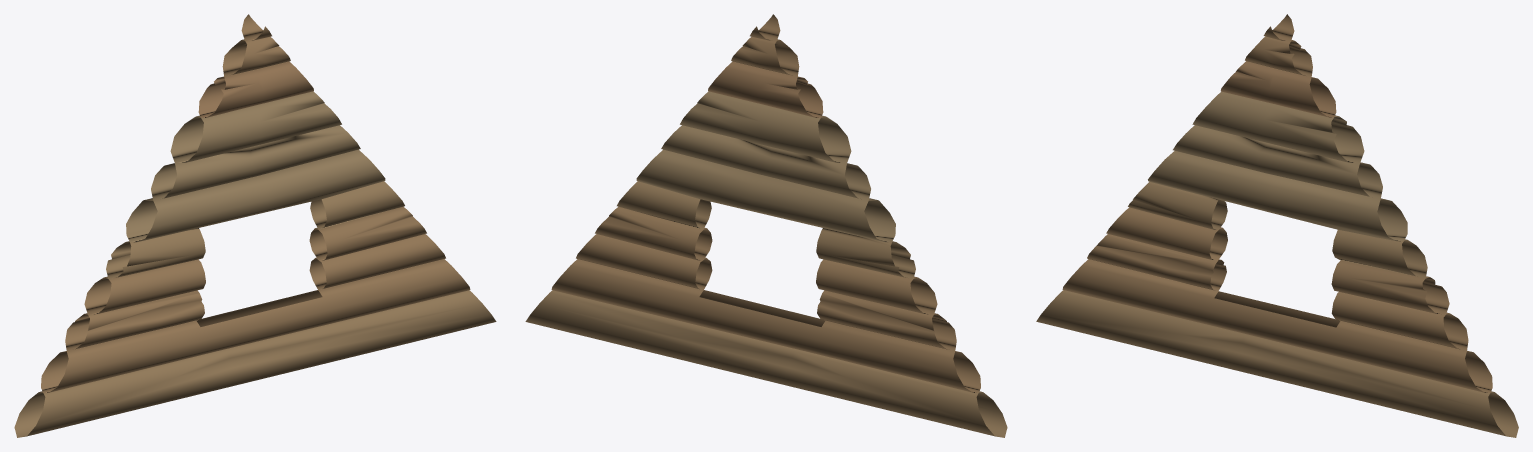
File: rpgpp_ag_roof_end_01_6x5_wall_window_01a.fbx
3 renders of one model, left to right at view 1: azimuth 30°, elevation 25°; view 2: azimuth 150°, elevation 25°; view 3: azimuth 330°, elevation 25°, orthographic.
Visible parts, largest first — view 1: rpgpp_ag_roof_end_01_6x5_wall_window_01a; view 2: rpgpp_ag_roof_end_01_6x5_wall_window_01a; view 3: rpgpp_ag_roof_end_01_6x5_wall_window_01a.
Boxes of the visible parts, x1,y1,x2,y2 form: rpgpp_ag_roof_end_01_6x5_wall_window_01a: (14,14,496,437); rpgpp_ag_roof_end_01_6x5_wall_window_01a: (525,14,1007,437); rpgpp_ag_roof_end_01_6x5_wall_window_01a: (1036,14,1518,437).
Size of the model in its own units: 6.33 by 4.56 by 0.5143.
